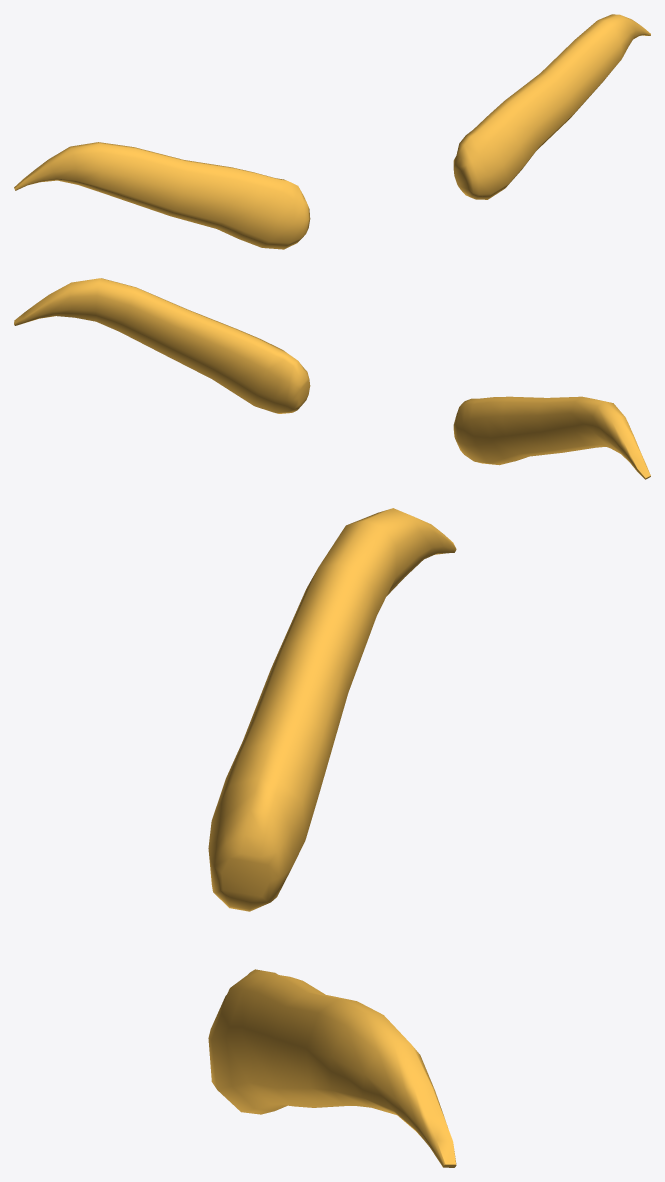
Rendered from Eyebrows_02_05.fbx.
3 renders of one model, top to bottom at view 1: azimuth 30°, elevation 25°; view 2: azimuth 150°, elevation 25°; view 3: azimuth 270°, elevation 25°, orthographic. The views are drawn at different scales.
Visible parts, largest first — view 1: Eyebrows_02_05; view 2: Eyebrows_02_05; view 3: Eyebrows_02_05.
Boxes of the visible parts, box(x1,y1,x2,y2) form: Eyebrows_02_05: box(14, 14, 650, 249); Eyebrows_02_05: box(14, 278, 650, 479); Eyebrows_02_05: box(208, 508, 456, 1167).
Bounding box in the file's own units: 18.03 × 3.24 × 3.04.
